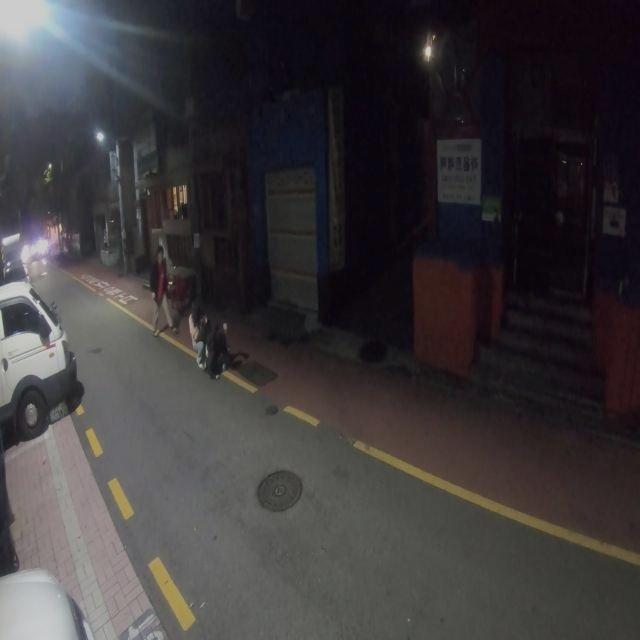fight: (184, 289, 236, 379)
non-fight: (148, 245, 175, 337)
